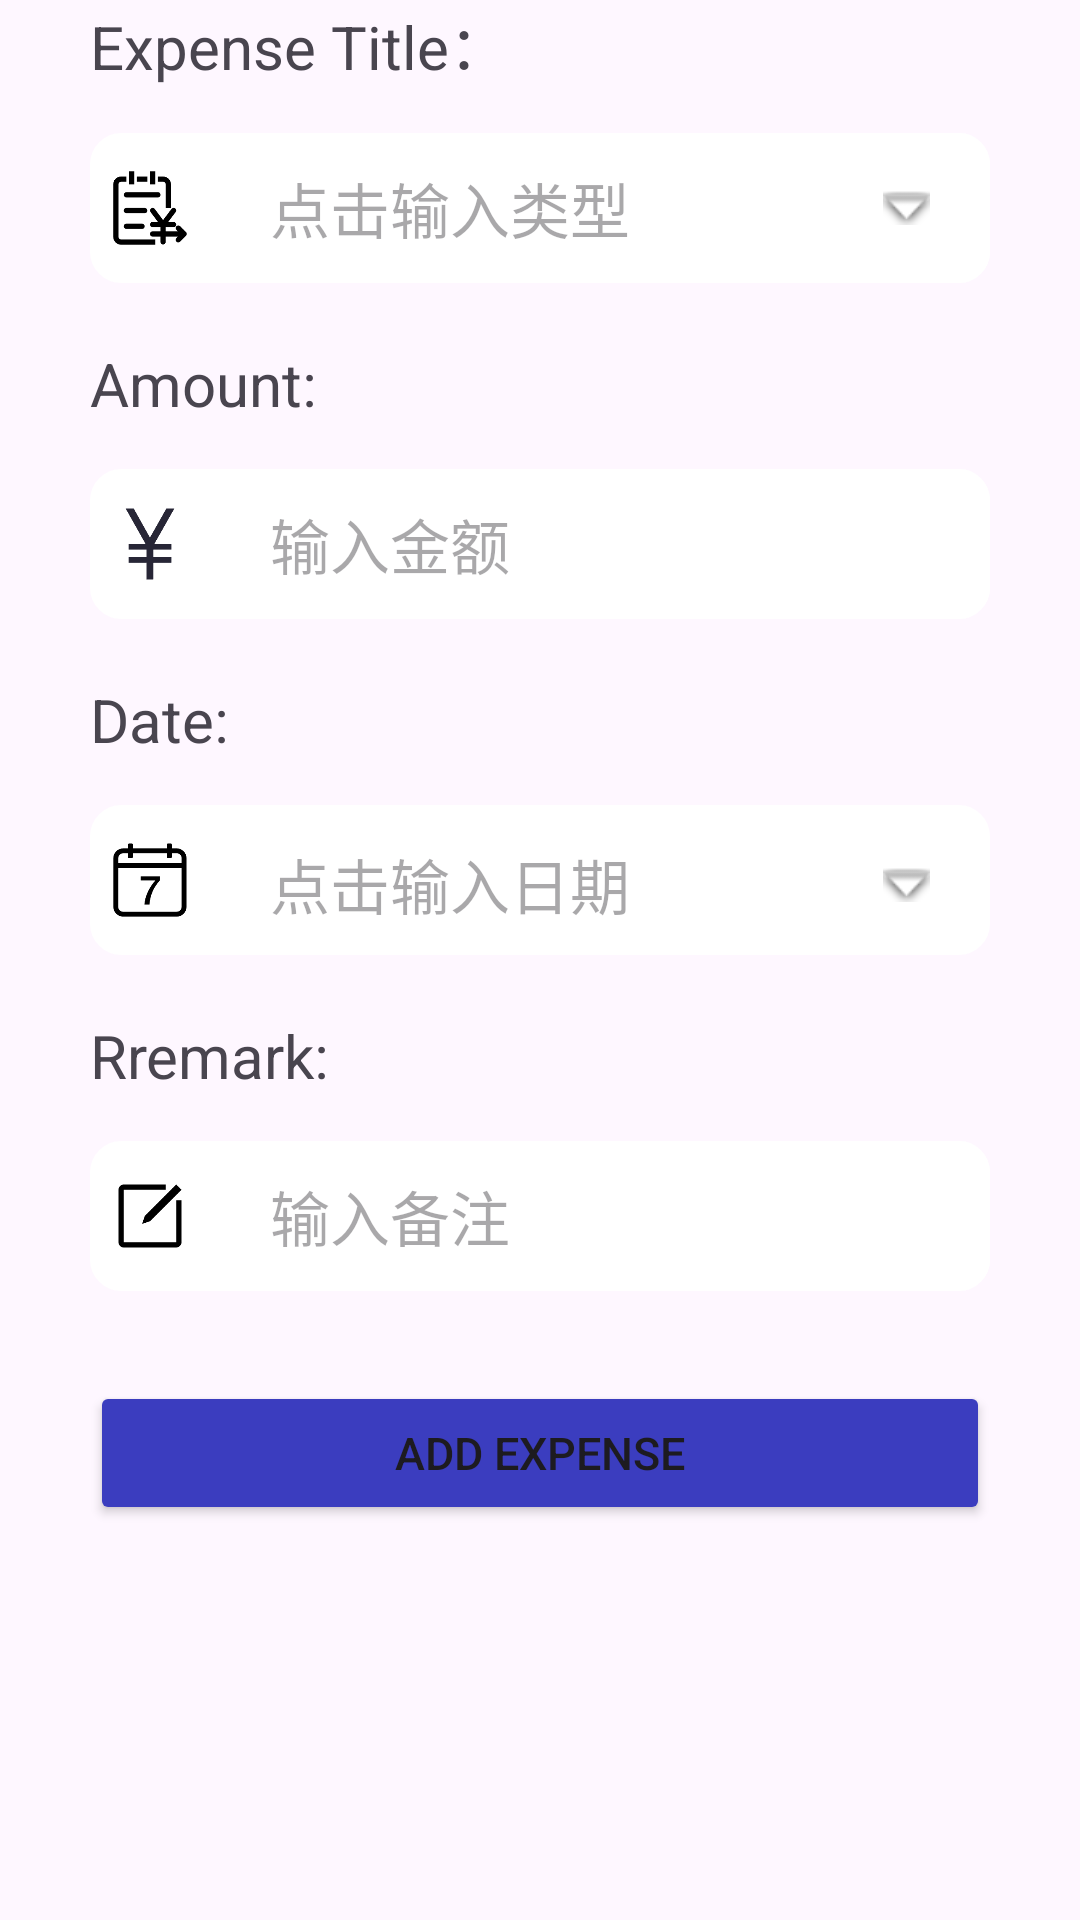

Where icons sit on this 1080px x 1920px app screen, as bbox=[x1, y1, x2, y2]:
calendar: bbox=[113, 843, 187, 917]
expense remark: bbox=[118, 1184, 182, 1248]
